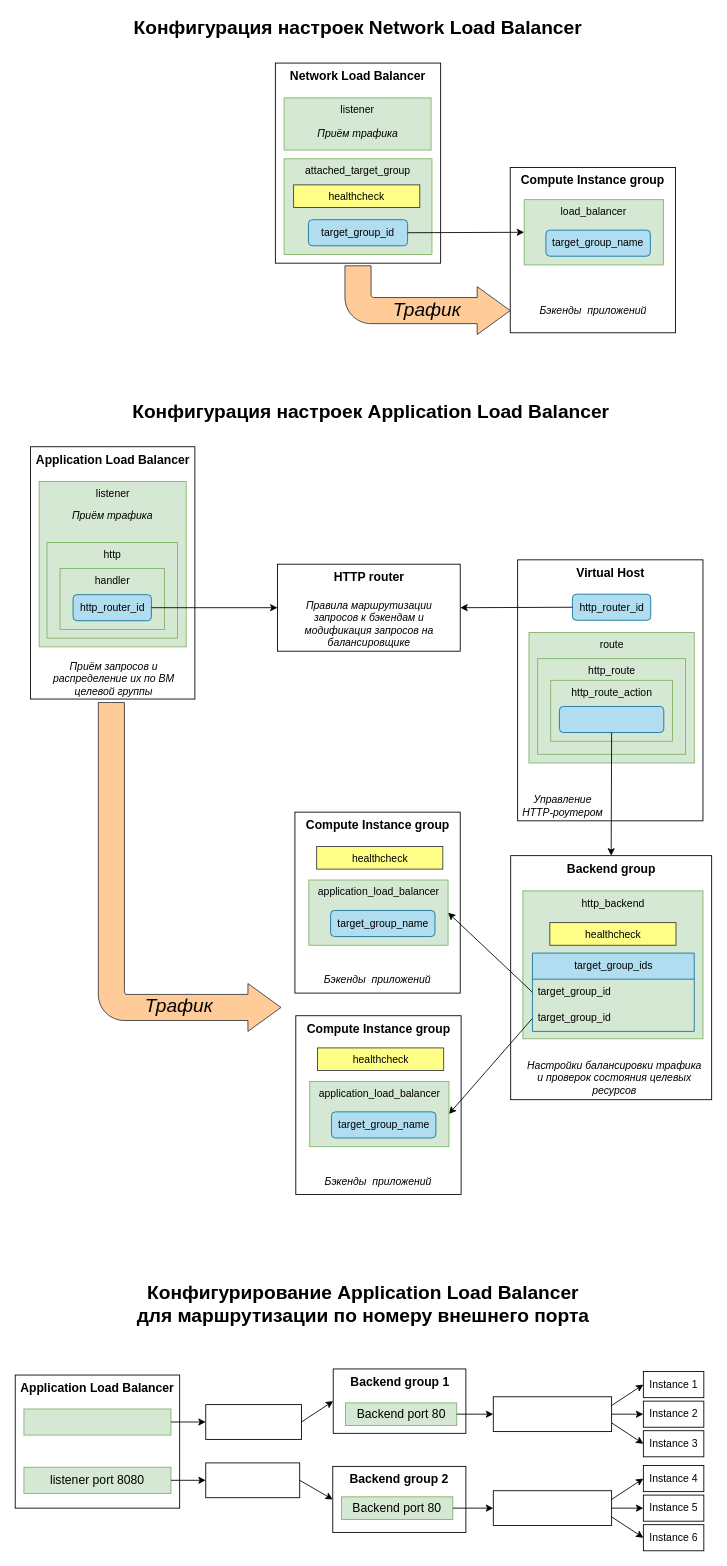
The diagram is 727 pixels wide and 1566 high, and some of its shapes have lost their labels. Each missing label, with the centre of its shape:
backend_group_id: point 611,719
HTTP router 1: point 253,1421
HTTP router 2: point 252,1480
listener port 80: point 97,1421
Target Group 1: point 552,1414
Target Group 2: point 552,1508
